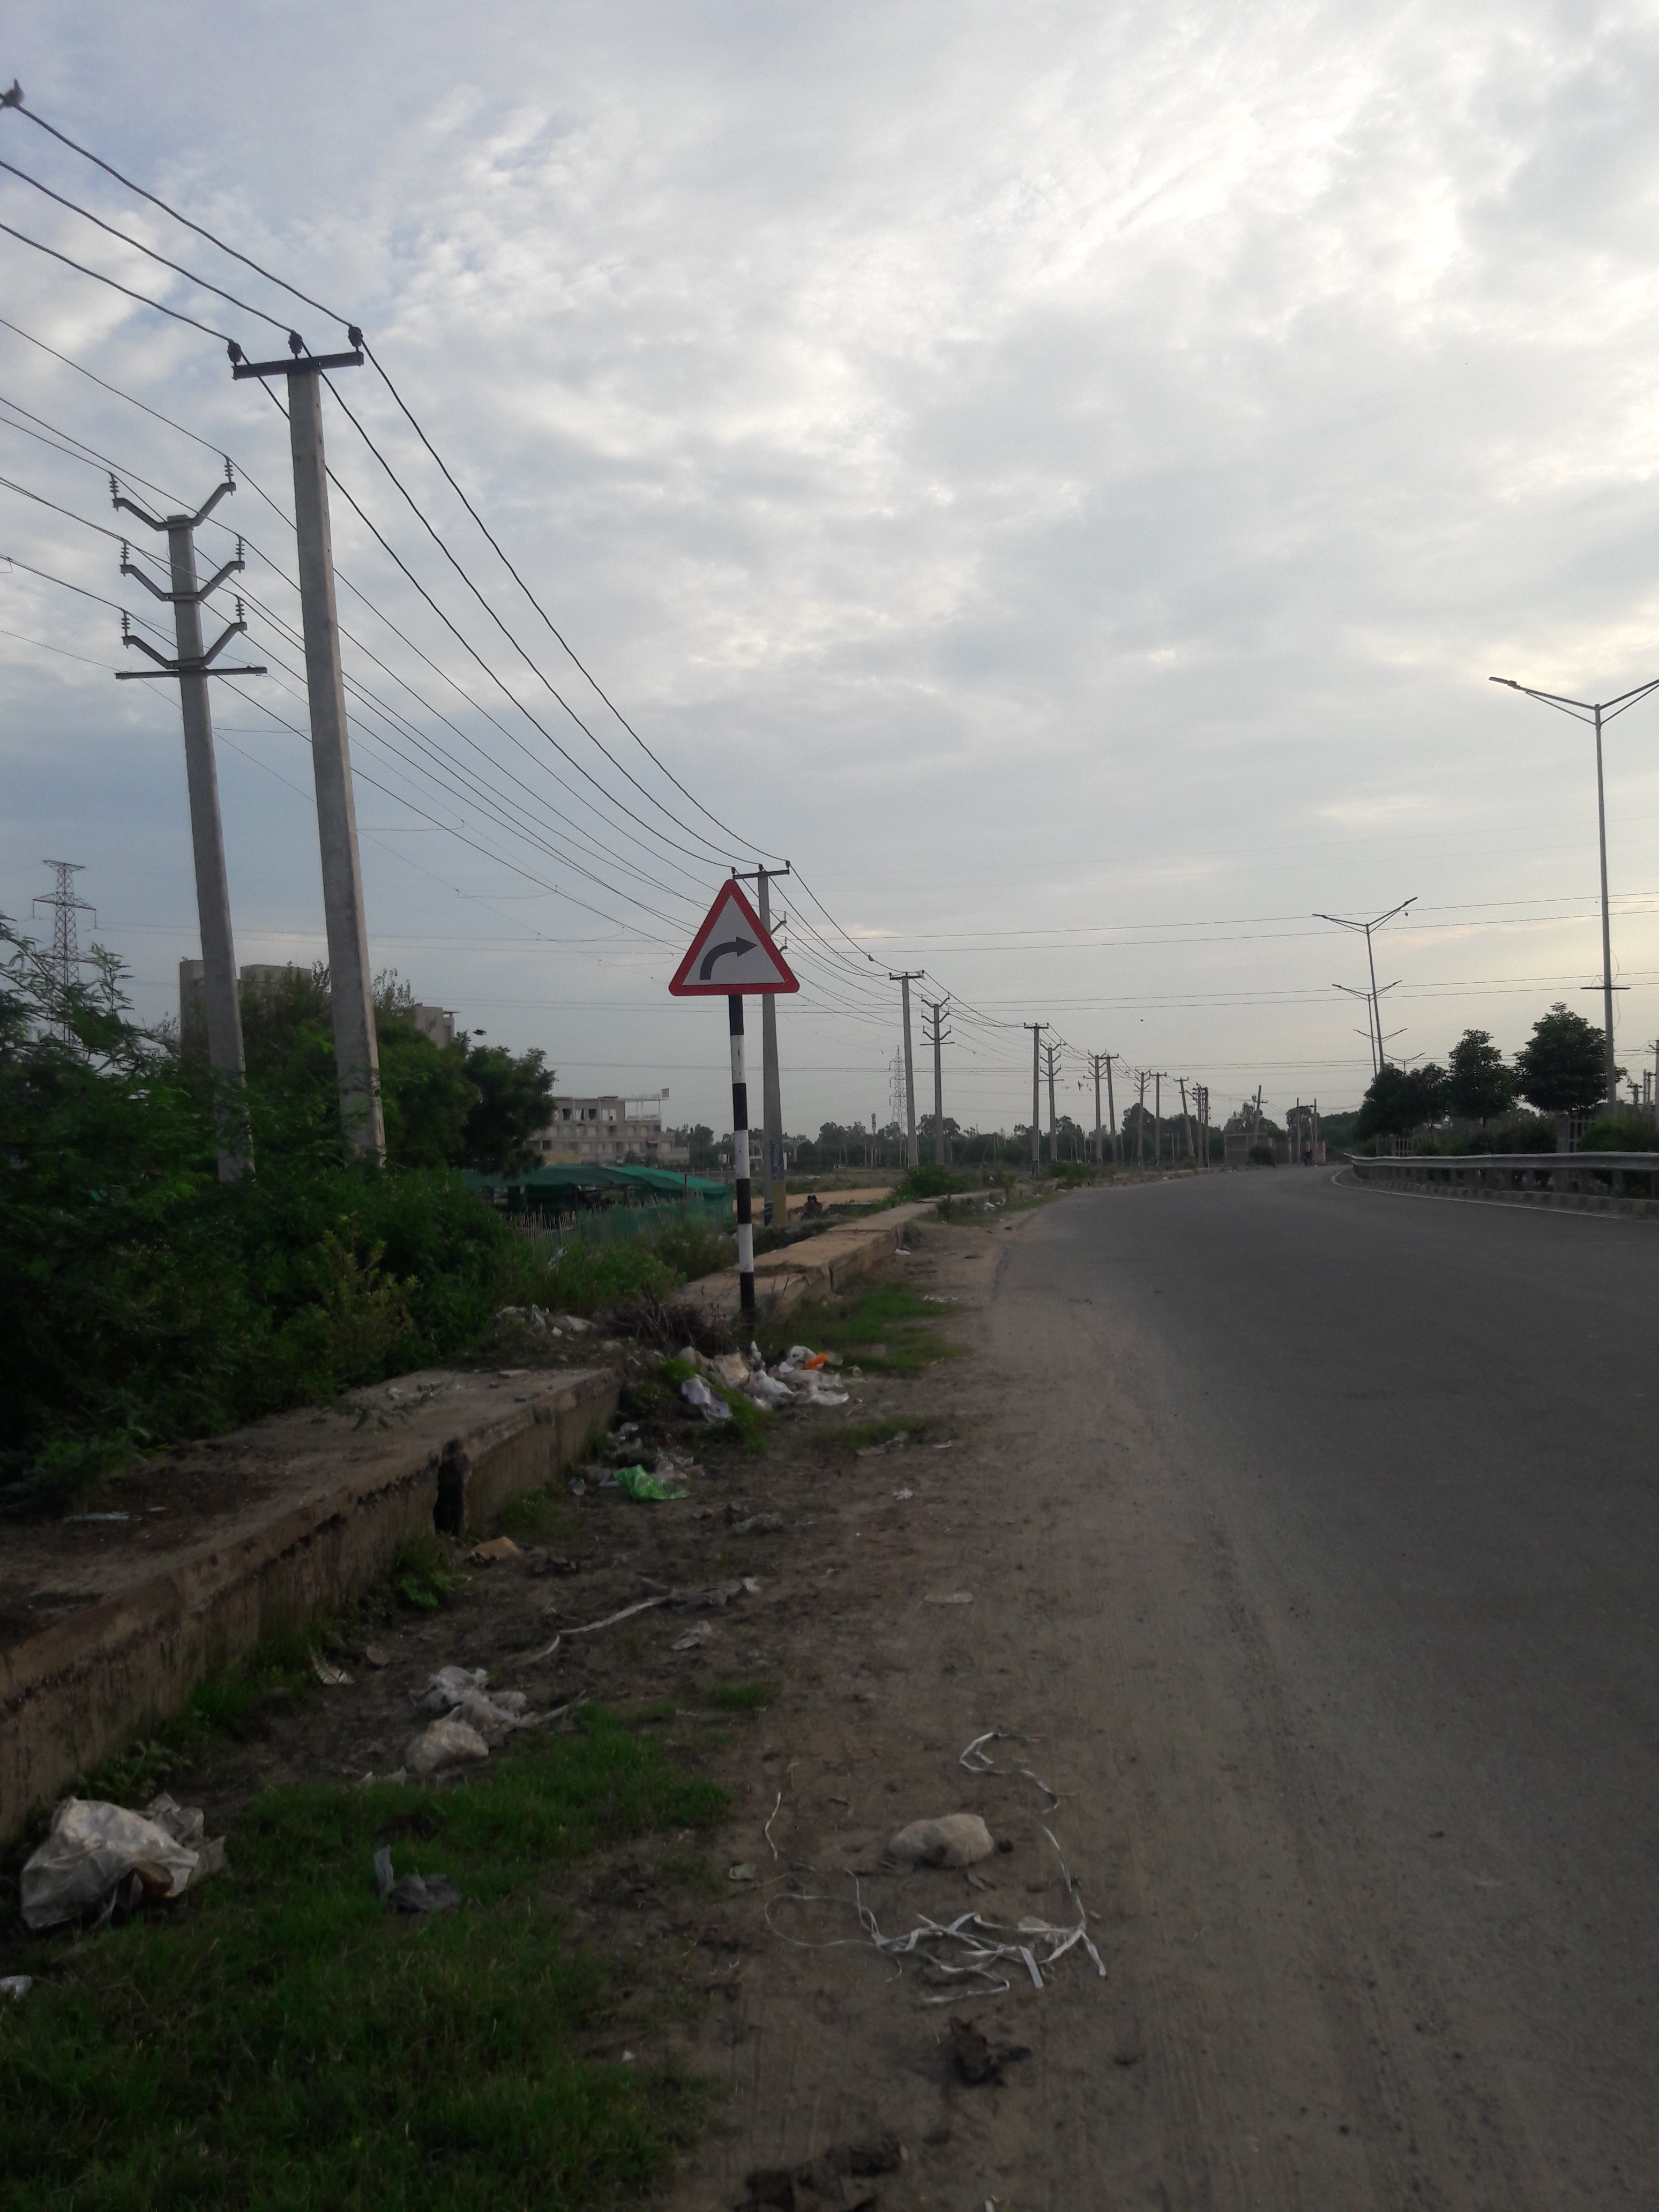traffic_sign: (669, 878, 798, 998)
